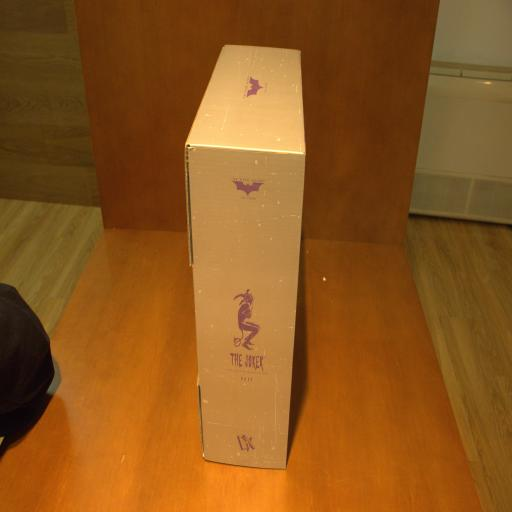Joker: (184, 43, 309, 468)
